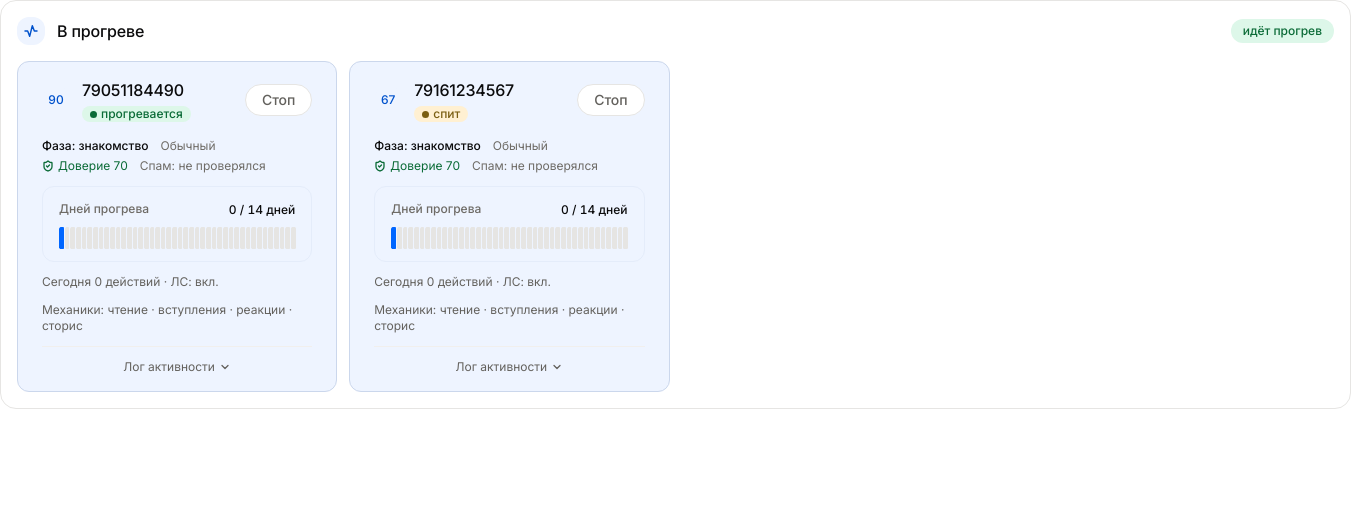
Scenario: clear button hides the existing log lines
Click the button "Лог активности" below "прогревается" at (177, 360), box x1=42 y1=346 x2=312 y2=375
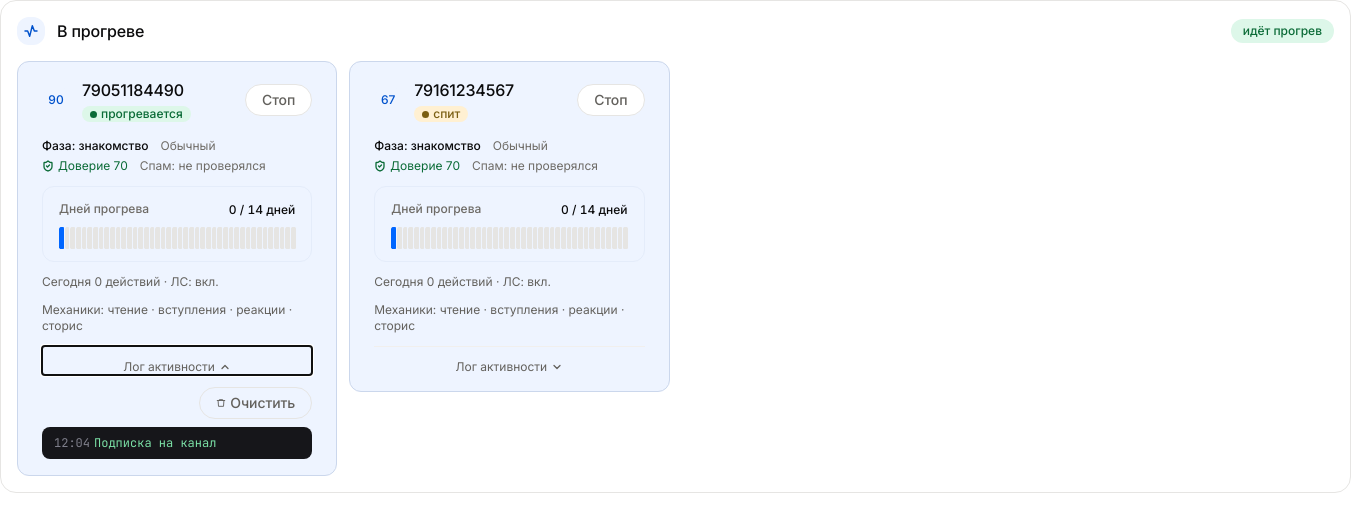
Result: the text "Подписка на канал" is shown at x1=94 y1=435 x2=216 y2=451
Click the button "Очистить" at (256, 403), box x1=199 y1=387 x2=312 y2=419
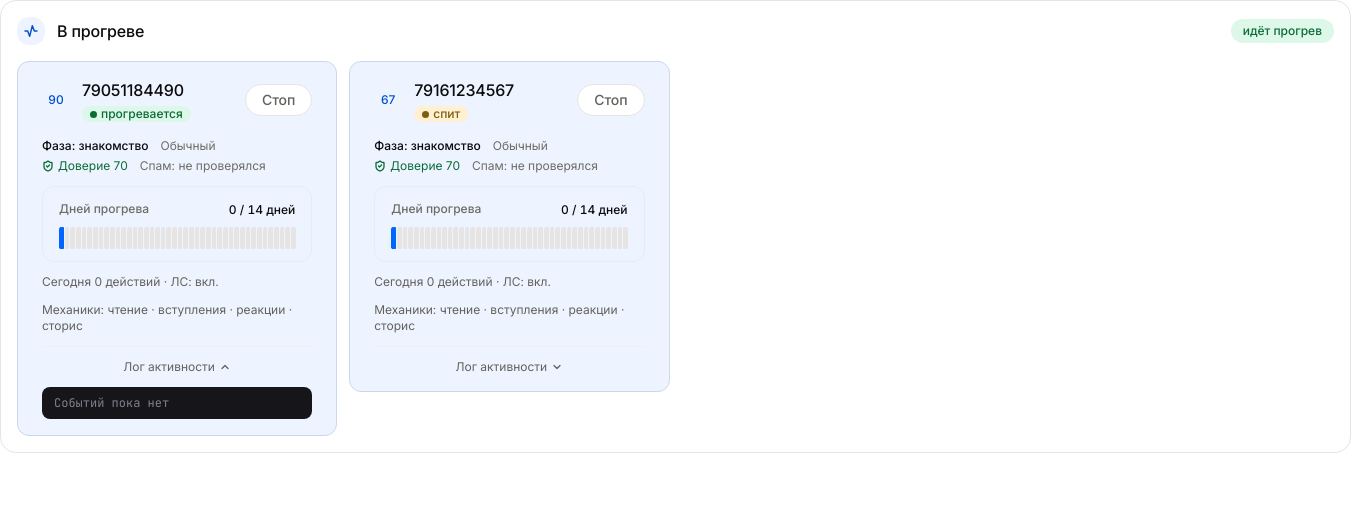
Result: the text "Подписка на канал" is gone
